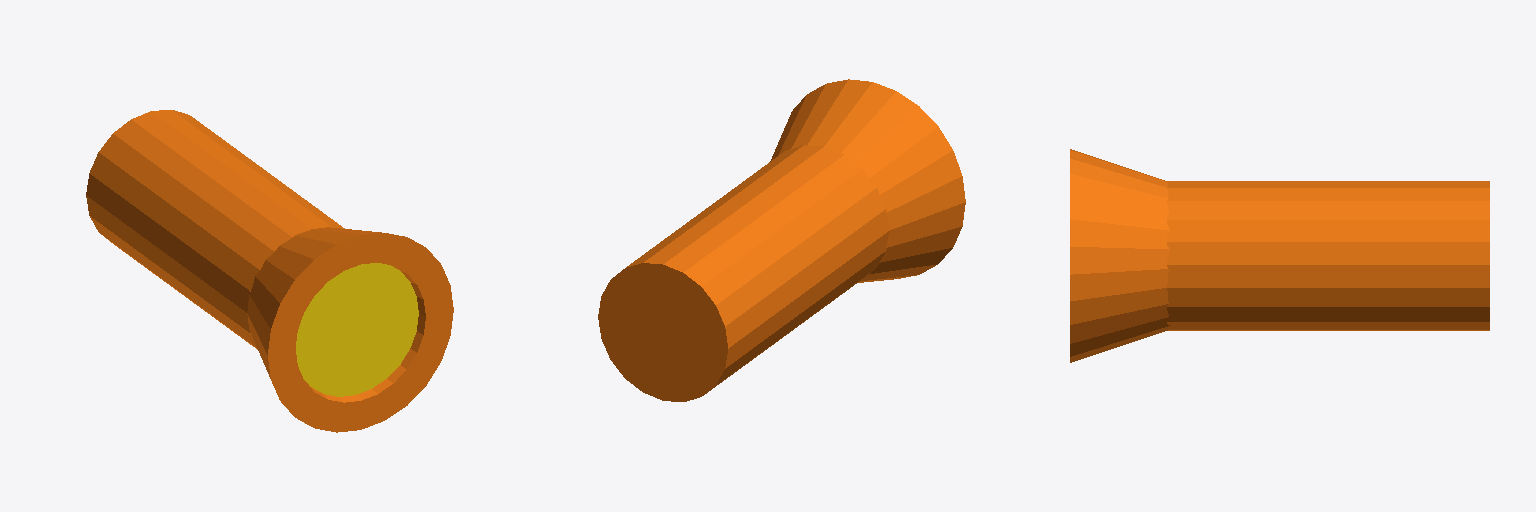
File: tinker.obj
The picture shows the model from 3 angles: view 1: azimuth 30°, elevation 25°; view 2: azimuth 150°, elevation 25°; view 3: azimuth 270°, elevation 25°; orthographic projection.
Parts seen in each view (by area): view 1: obj_0; view 2: obj_0; view 3: obj_0.
Boxes of the visible parts, <box> form: obj_0: <box>86,110,453,432</box>; obj_0: <box>598,79,965,401</box>; obj_0: <box>1070,149,1489,362</box>.
Bounding box in the file's own units: 20 × 20 × 39.